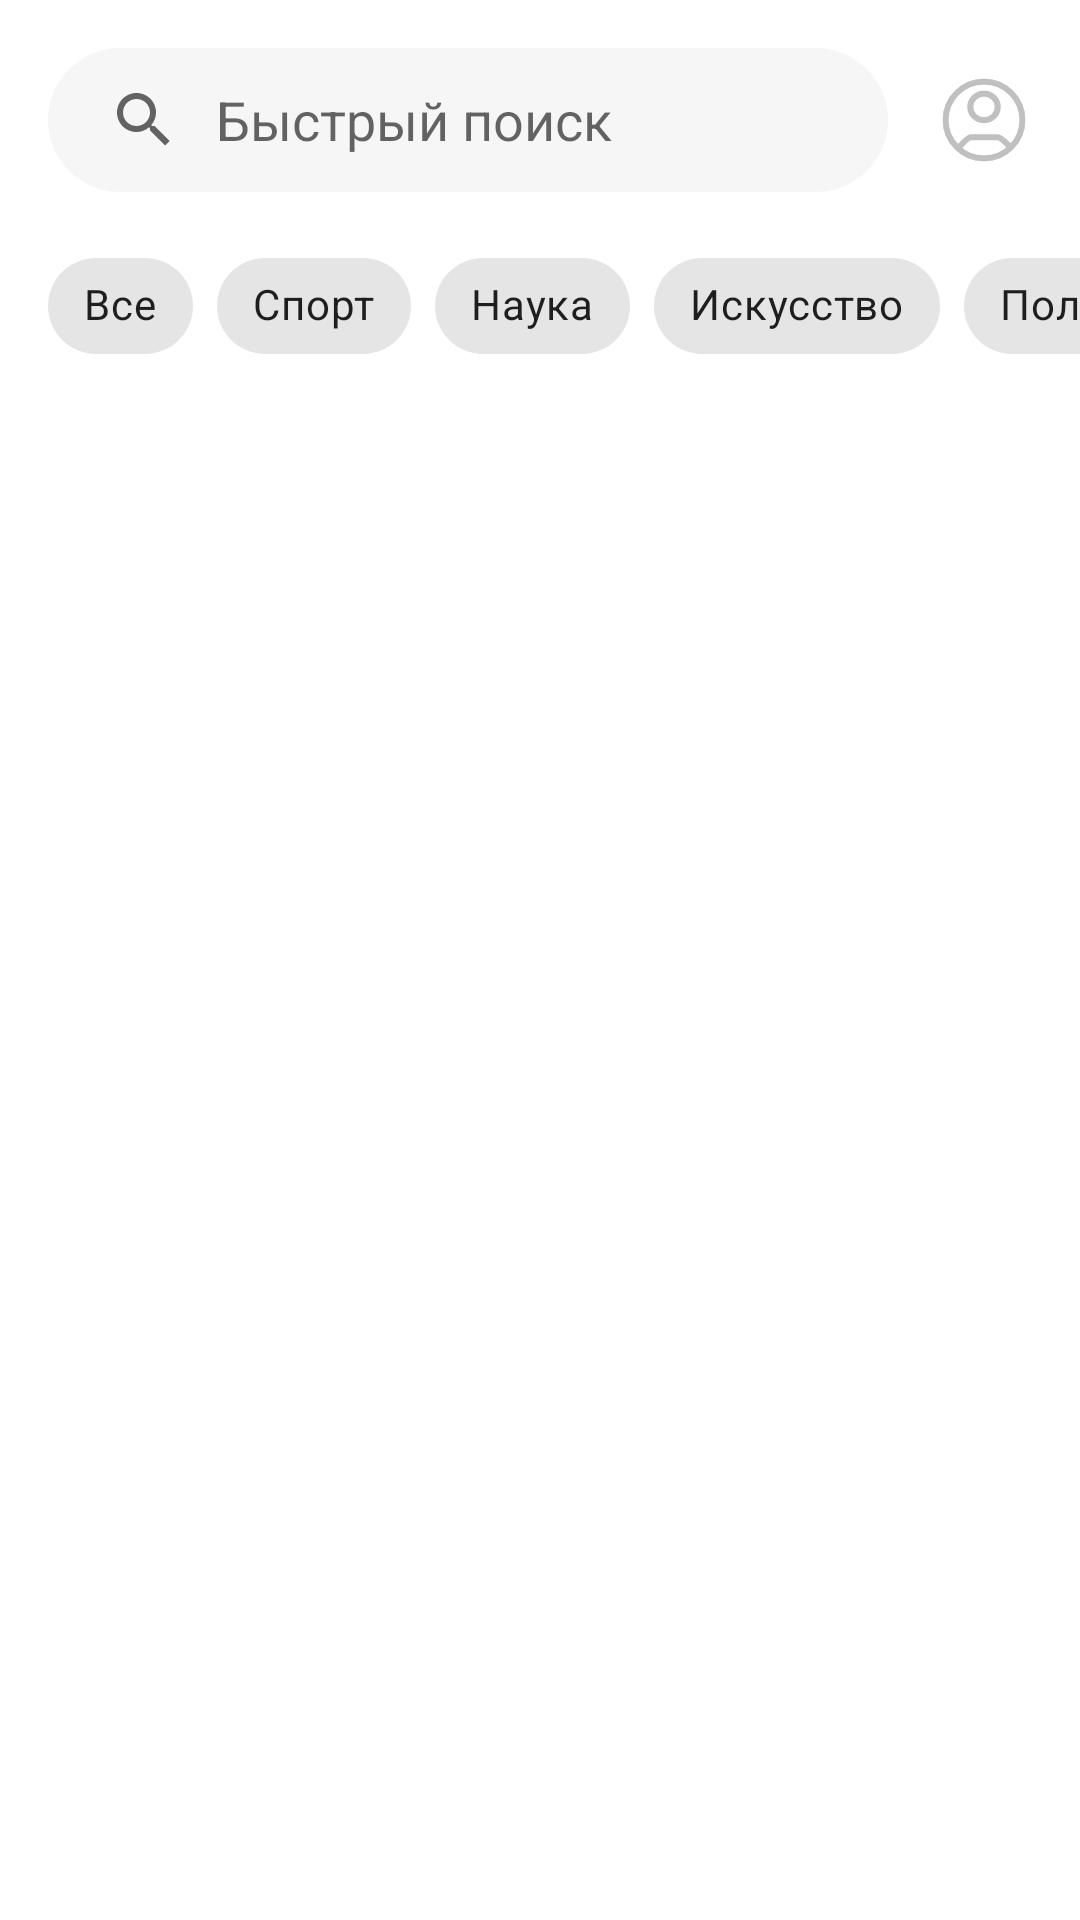

Named icons in this screenshot (1080*1920) and their bounding boxes, (x1, y1, x2, y2):
profile: (943, 79, 1025, 161)
